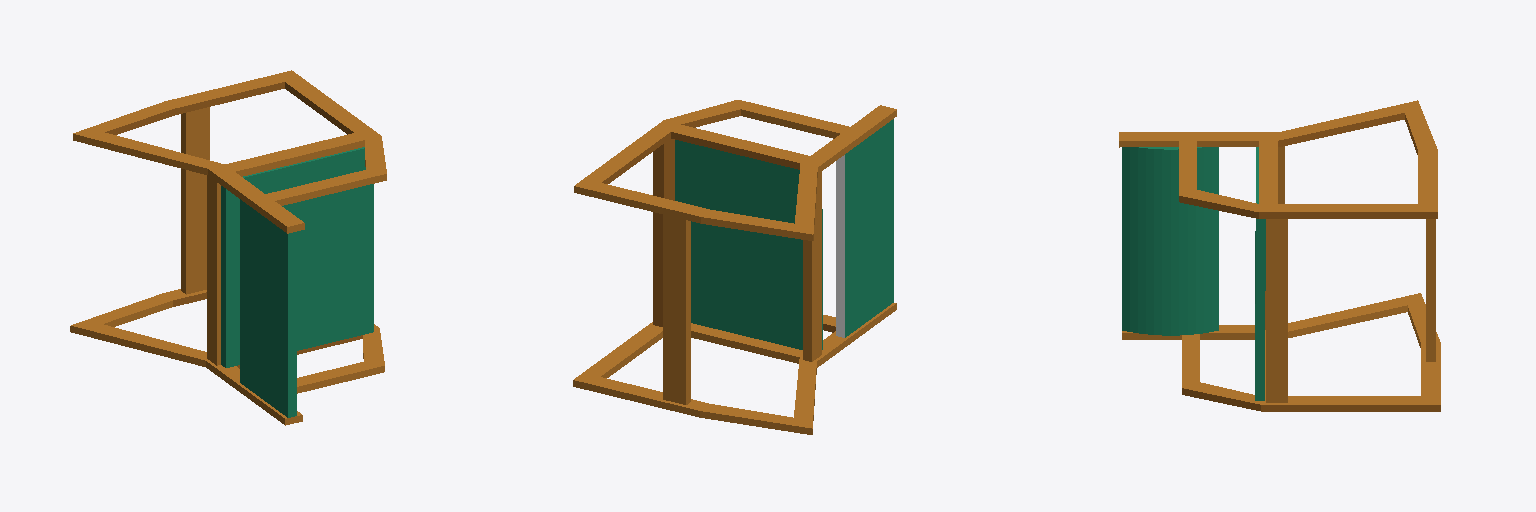
The picture shows the model from 3 angles: view 1: azimuth 30°, elevation 25°; view 2: azimuth 150°, elevation 25°; view 3: azimuth 270°, elevation 25°; orthographic projection.
Visible parts, largest first — view 1: desk chair; view 2: desk chair; view 3: desk chair.
Boxes of the visible parts, <box> form: desk chair: <box>70,70,386,425</box>; desk chair: <box>573,100,896,434</box>; desk chair: <box>1119,100,1440,411</box>.
Bounding box in the file's own units: 26.65 × 22.09 × 32.27.